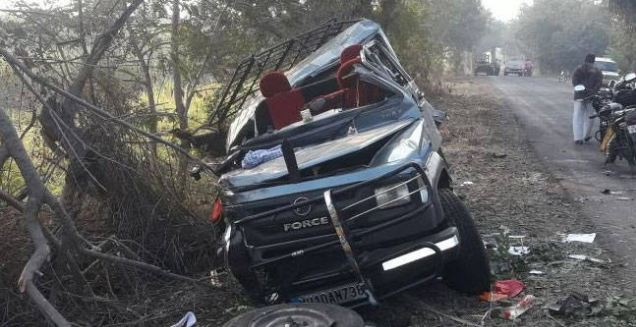accident: (209, 16, 561, 327)
